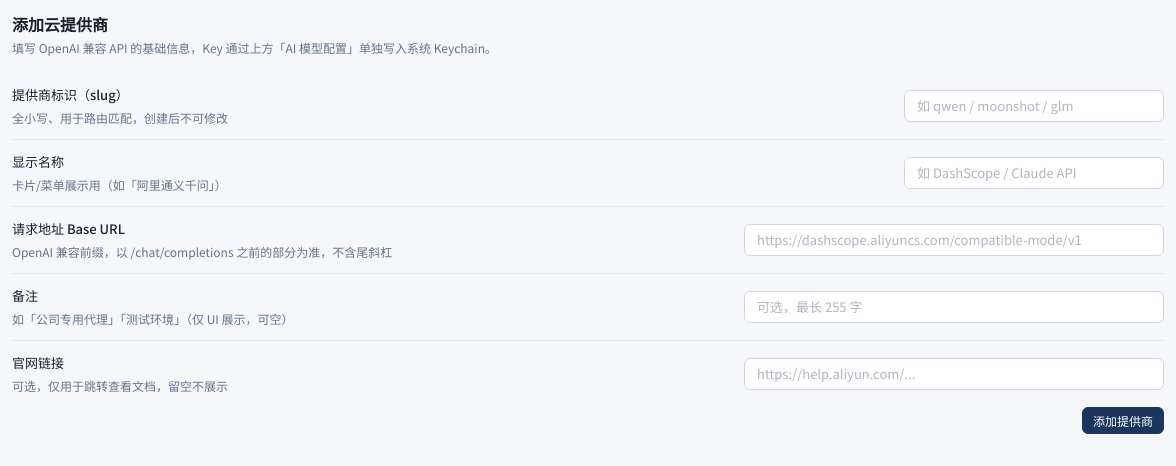
Test case: CloudProviderFormCard › should reject base_url ending with slash
Type "https://example.com/v1/" into the field named "Base URL" at (954, 240), box [744,224,1164,256]
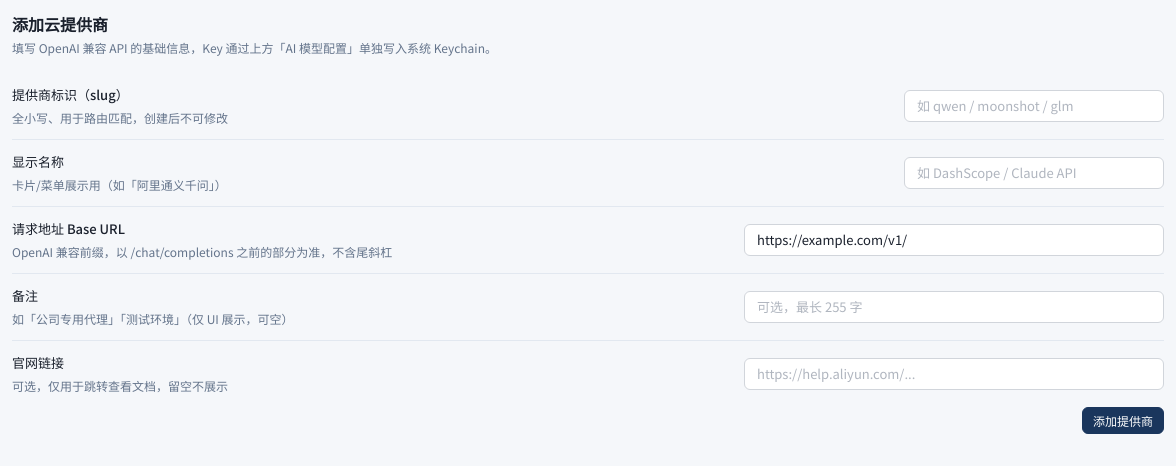
Leave the field named "Base URL", box [744,224,1164,256]
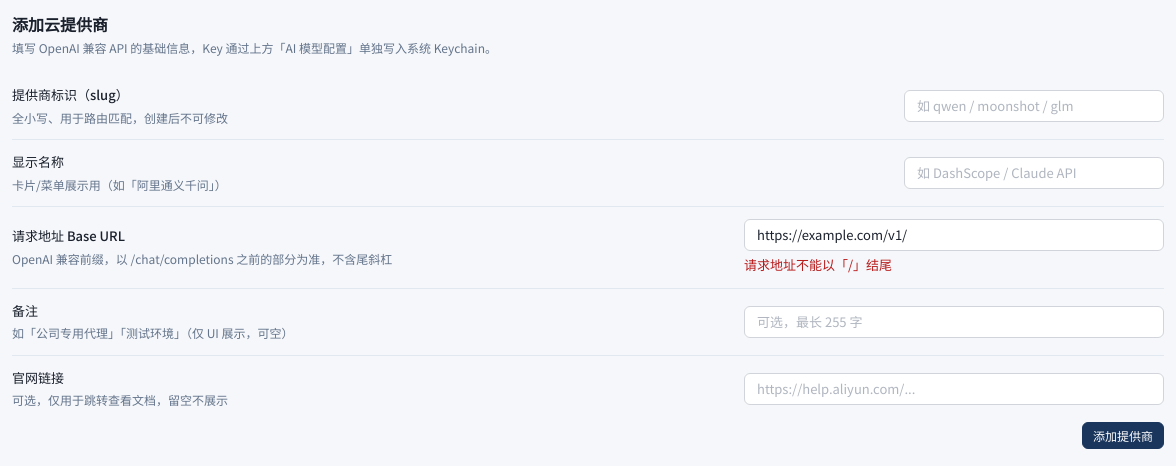
Check: the text "请求地址不能以「/」结尾" is shown, box [744,255,892,274]
